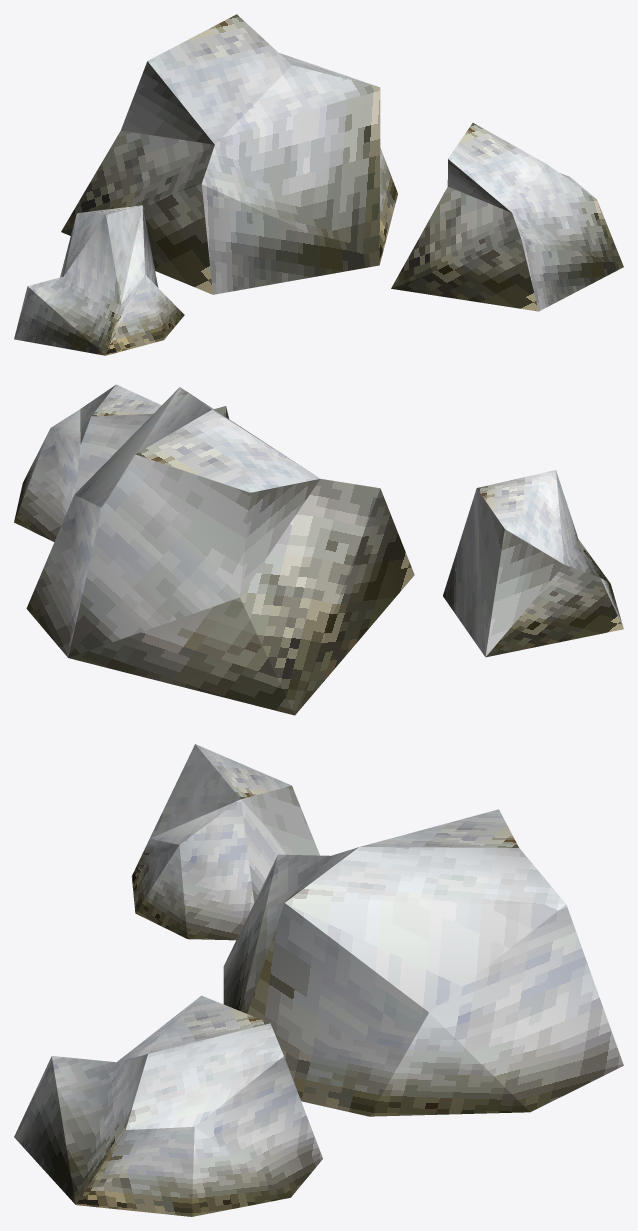
Rendered from Environment - Prop - Rock Cluster Small Snow 01 - PMsscluster.glb.
3 views of the same model, one above another, from view 1: azimuth 30°, elevation 25°; view 2: azimuth 150°, elevation 25°; view 3: azimuth 270°, elevation 25° (orthographic). The views are drawn at different scales.
Visible parts, largest first — view 1: PMSSCLUSTER; view 2: PMSSCLUSTER; view 3: PMSSCLUSTER.
Part boxes in pixels (x1,y1,x2,y2): PMSSCLUSTER: (14,14,623,355); PMSSCLUSTER: (14,384,623,715); PMSSCLUSTER: (14,744,623,1216).
Size of the model in its own units: 42.11 by 13.89 by 30.84.
Materials: 1 (1 with a texture image).
